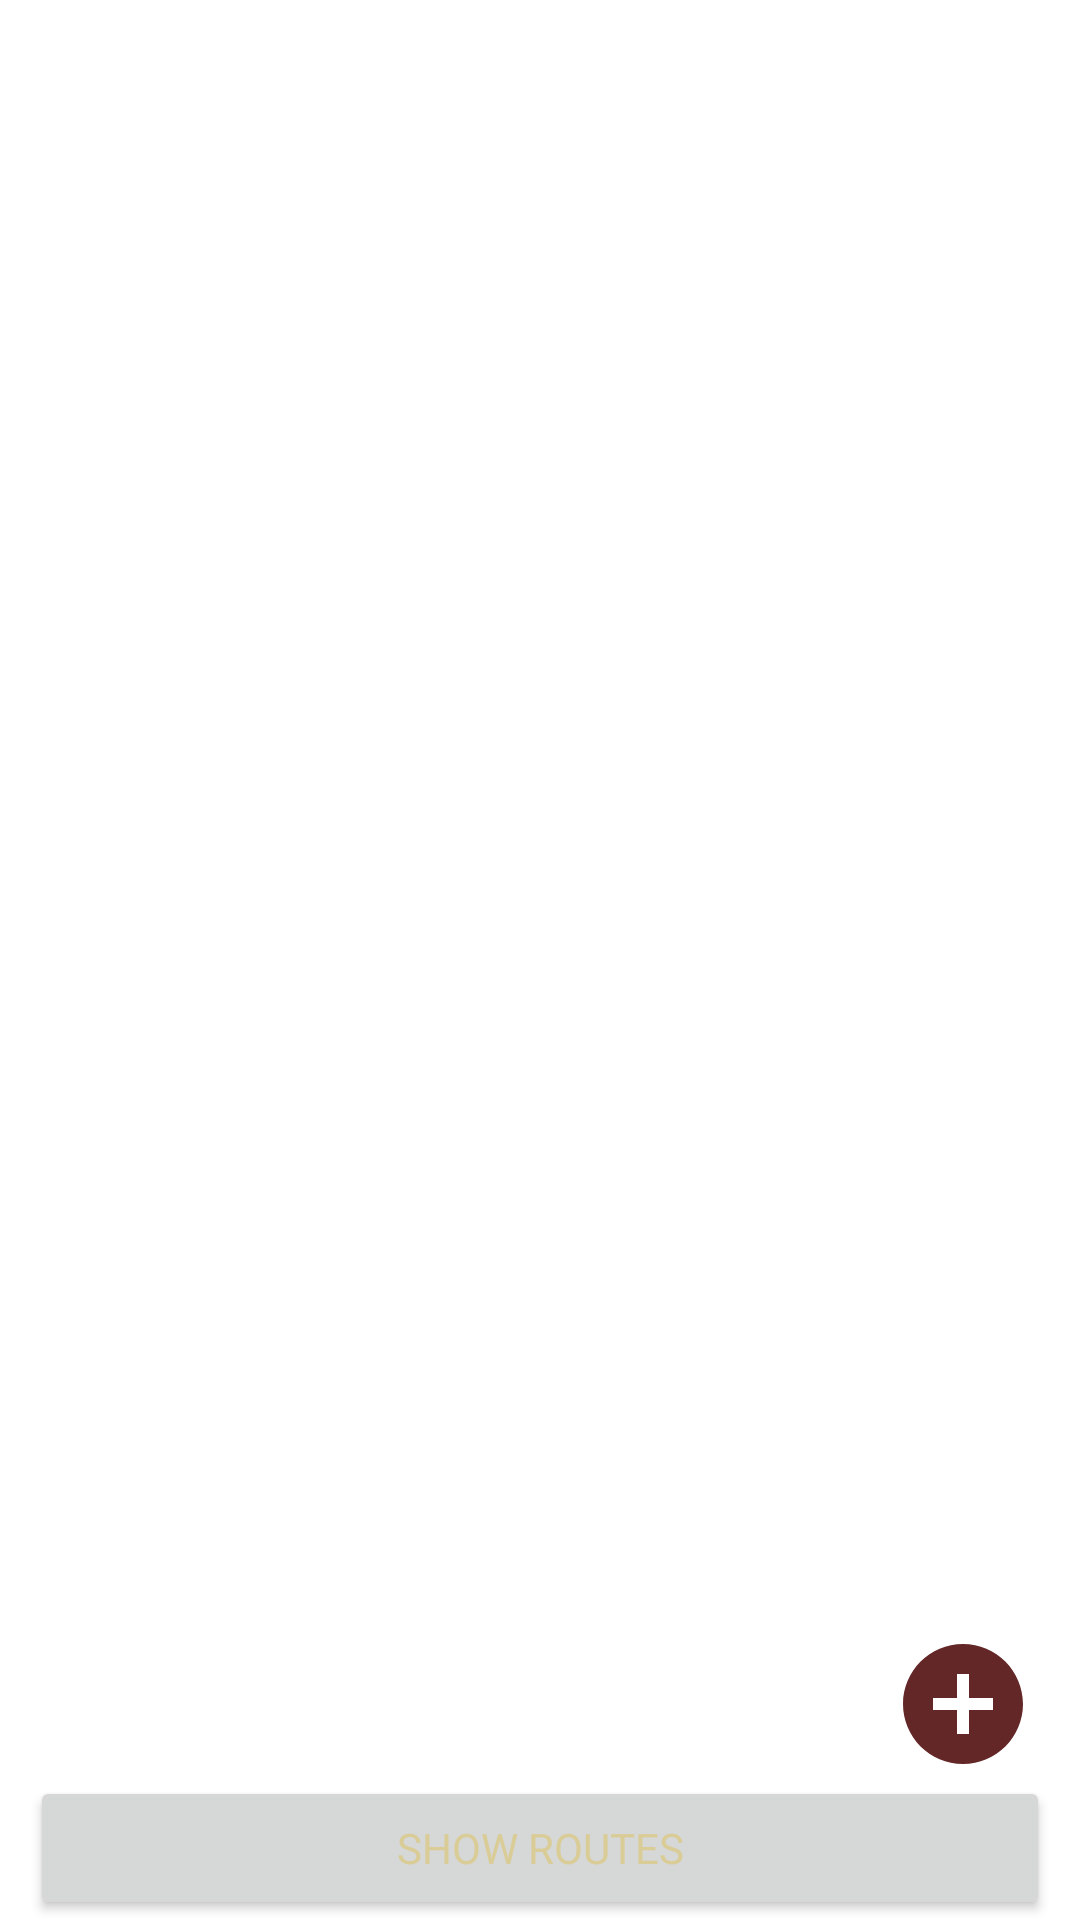

Named icons in this screenshot (1080 × 1920) and their centers, (x,y):
add desti: (963,1704)
